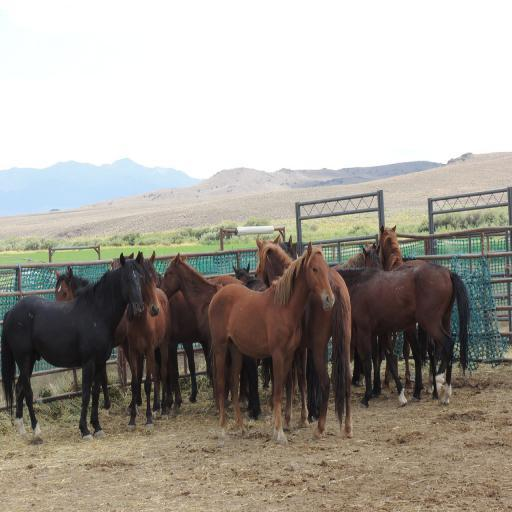horse: (0, 252, 143, 443), (206, 242, 334, 447), (330, 258, 470, 412), (253, 232, 352, 441), (158, 250, 262, 410), (54, 266, 134, 412), (118, 250, 172, 434), (378, 226, 432, 389), (229, 262, 268, 290), (357, 244, 391, 271)
